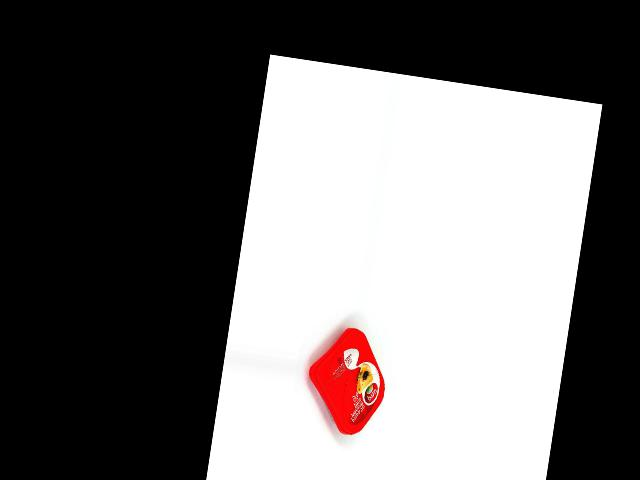cheese: (300, 321, 393, 439)
